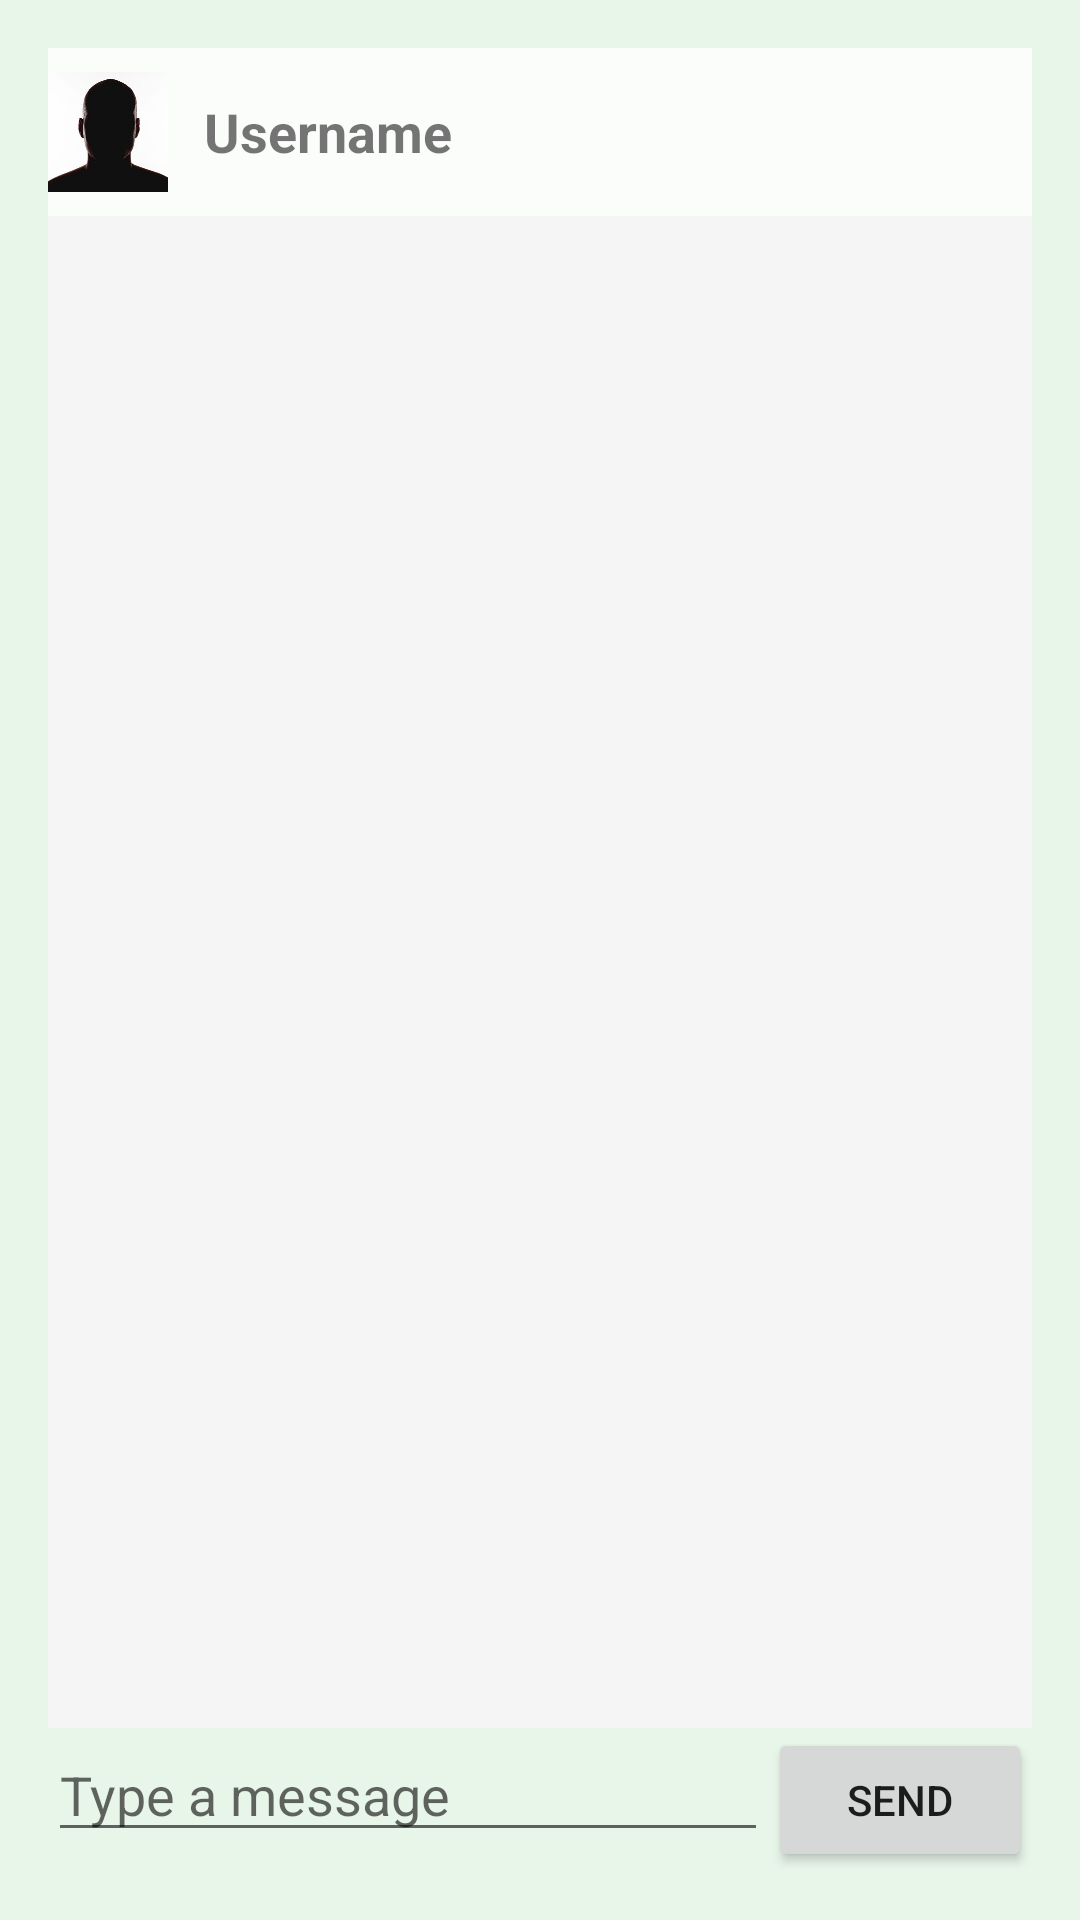

Screen size 1080 × 1920. Icon name, then its center in pixels as (x=x, y=y):
profile: (x=108, y=135)
